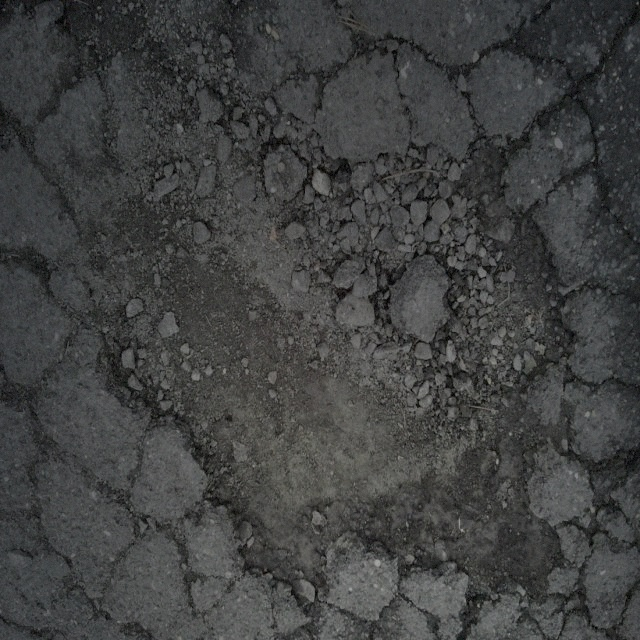pothole: (89, 114, 571, 602)
